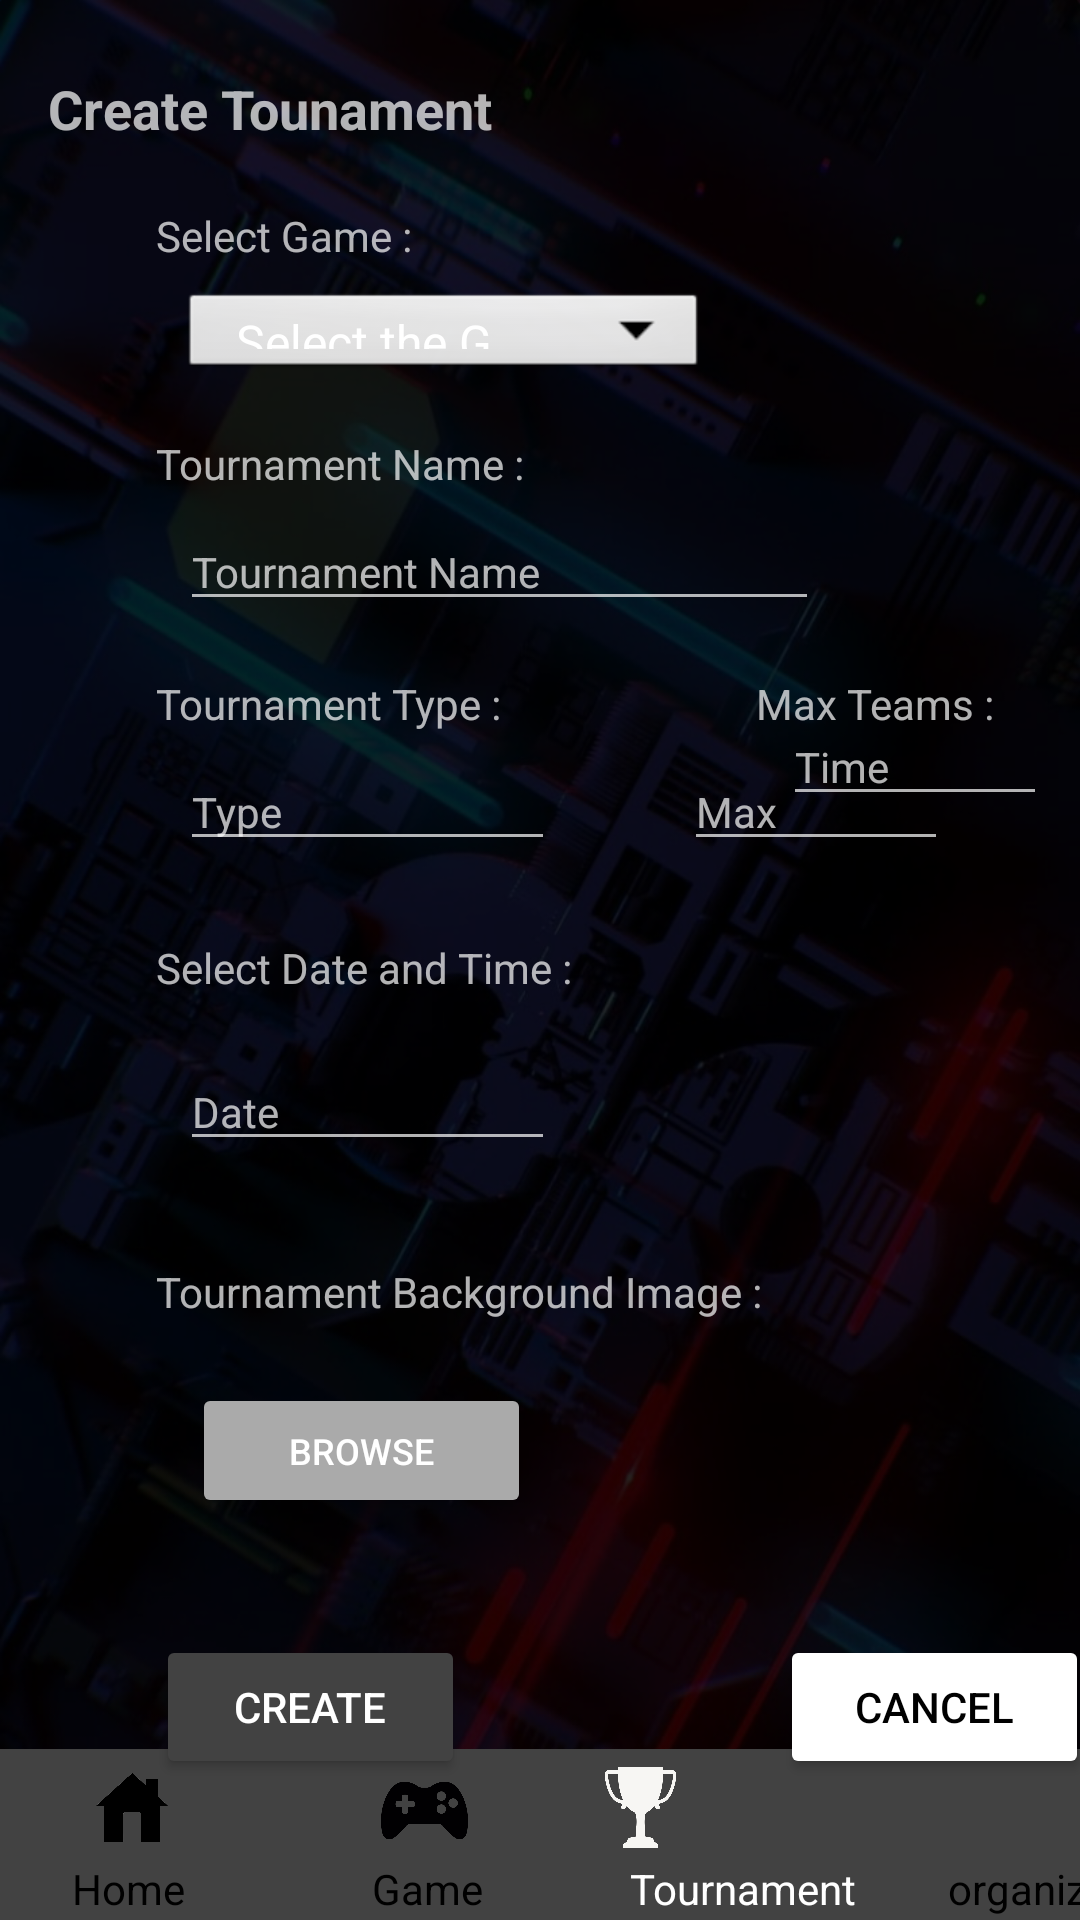

Icons on this 1080 x 1920 Android screen, each with its box as (x1, y1, x2, y2):
console: (381, 1782, 468, 1839)
cupwhite: (605, 1767, 676, 1848)
